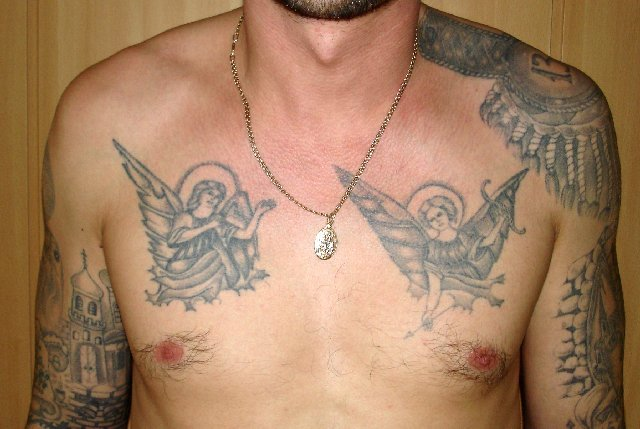tatu1_angel: (326, 156, 538, 329), (103, 130, 287, 314)
